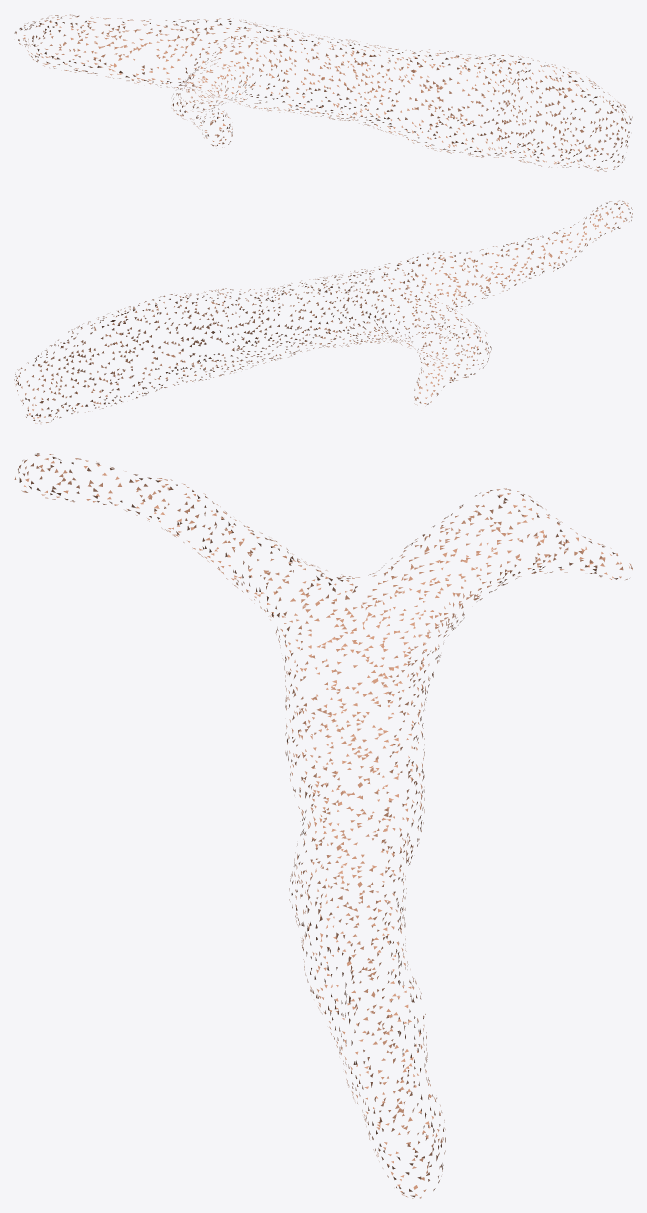
The model's file is morph_004.glb.
3 views of the same model, one above another, from view 1: azimuth 30°, elevation 25°; view 2: azimuth 150°, elevation 25°; view 3: azimuth 270°, elevation 25° (orthographic). The views are drawn at different scales.
Bounding box in the file's own units: 131 × 62.09 × 89.55.
